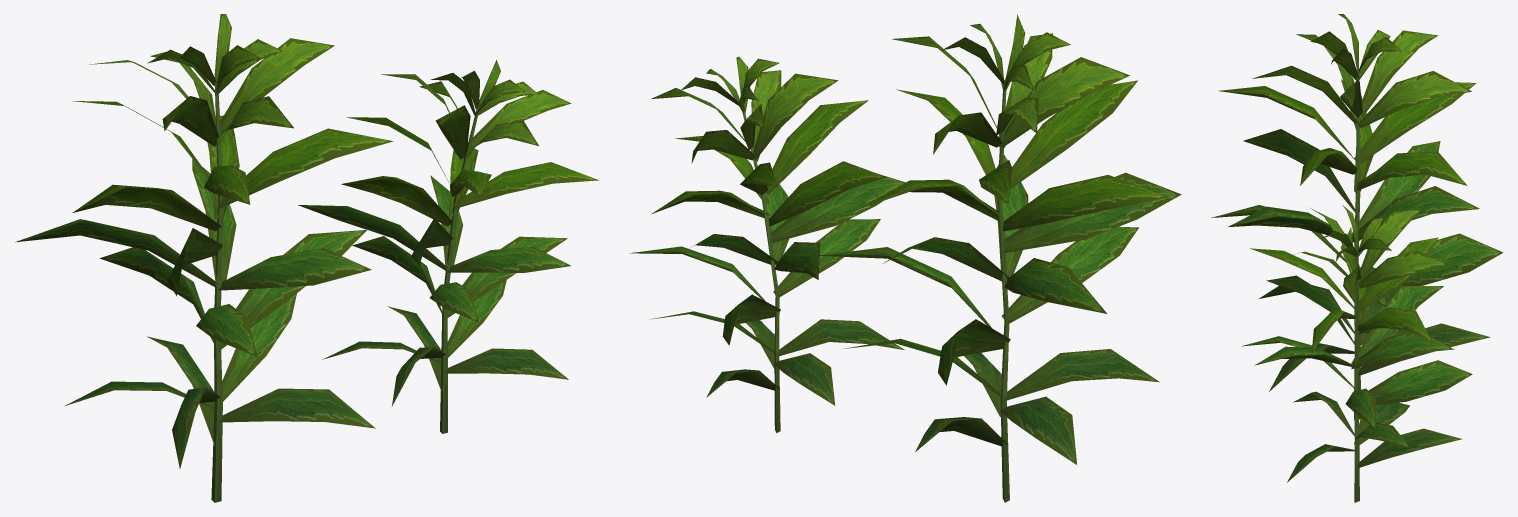
File: Horseweed_B.FBX
The picture shows the model from 3 angles, left to right: view 1: azimuth 30°, elevation 25°; view 2: azimuth 150°, elevation 25°; view 3: azimuth 270°, elevation 25°; orthographic projection. The views are drawn at different scales.
Parts seen in each view (by area): view 1: Horseweed_B_01, Horseweed_B_02; view 2: Horseweed_B_01, Horseweed_B_02; view 3: Horseweed_B_01, Horseweed_B_02.
Part boxes in pixels (<box>): Horseweed_B_01: <box>15,14,393,502</box>; Horseweed_B_02: <box>298,60,598,433</box>; Horseweed_B_01: <box>819,14,1181,502</box>; Horseweed_B_02: <box>630,56,905,432</box>; Horseweed_B_01: <box>1211,14,1503,420</box>; Horseweed_B_02: <box>1242,205,1472,502</box>.
Size of the model in its own units: 55.49 by 48 by 32.54.
